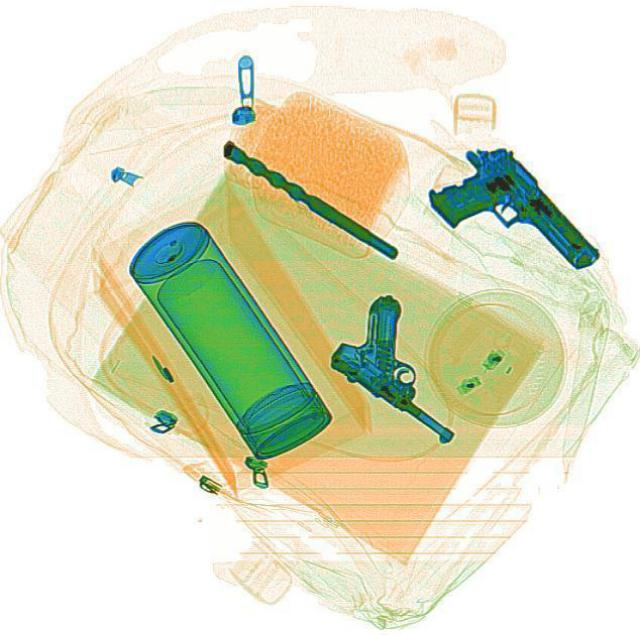Gun: (414, 130, 606, 311), (318, 286, 506, 449)
